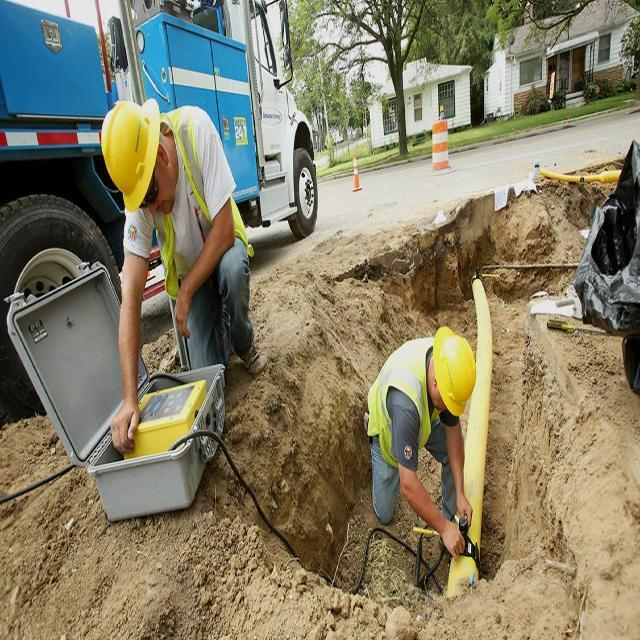gas: (464, 278, 492, 546), (446, 556, 479, 597)
